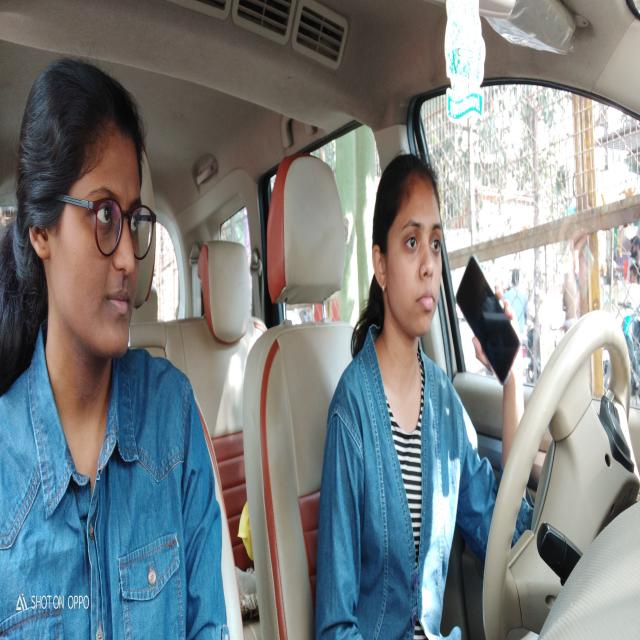mobile: (455, 237, 517, 389), (523, 394, 525, 399)
person: (19, 55, 162, 395), (367, 143, 454, 397)
